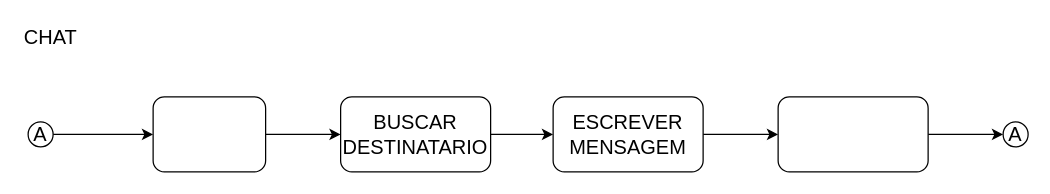
The diagram is 1050 pixels wide and 194 high, and some of its shapes have lost their labels. The centre of each missing label's shape, as x and y in pixels:
"CLICAR EM CHAT" goes at [209,134].
"CLICAR EM ENVIAR" goes at [852,134].
